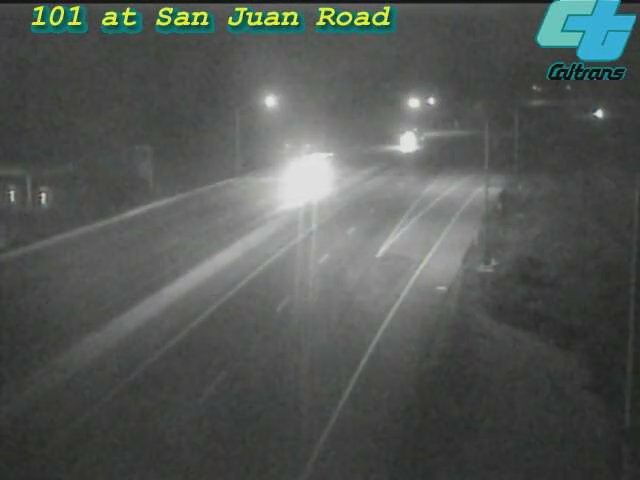vehicle: (268, 130, 348, 210), (381, 118, 431, 168), (571, 89, 621, 139)
